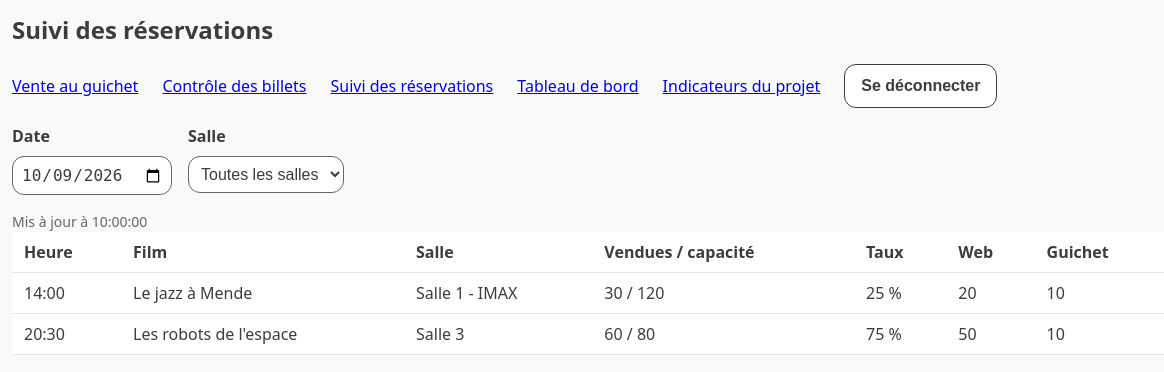
Test: TrackingPage (US 7.1) › affiche seulement les séances de la salle choisie
Expected: the text "Le jazz à Mende" is shown, x1=121 y1=272 x2=404 y2=314
Select "Salle 3" in the dropdown labelled "Salle" at (266, 174), box x1=188 y1=156 x2=344 y2=193
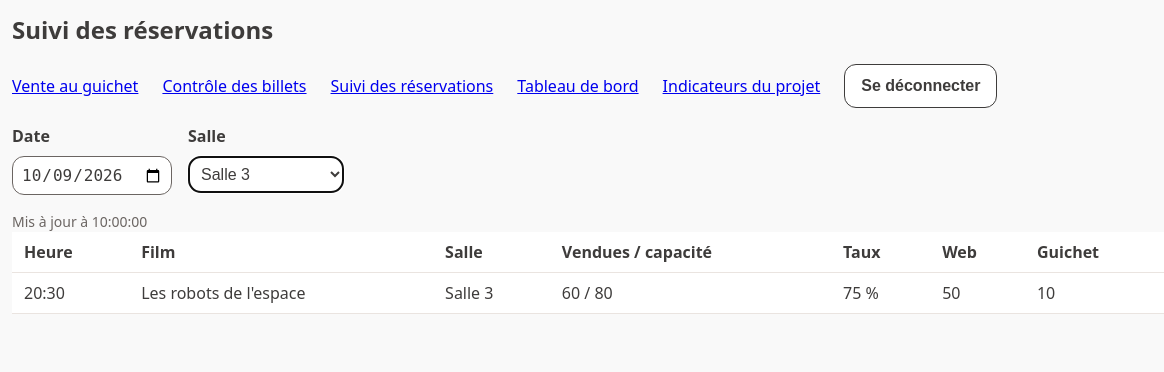
Expected: the text "Les robots de l'espace" is shown, x1=129 y1=272 x2=433 y2=314
Now the text "Le jazz à Mende" is gone
